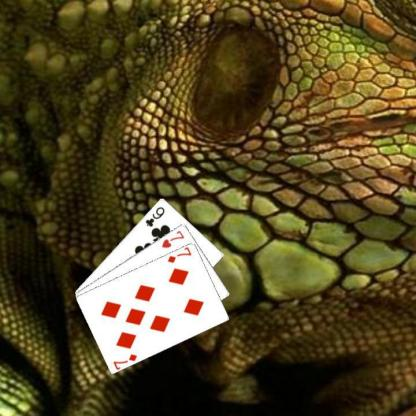7D: (165, 245, 192, 264), (111, 351, 138, 370)
7H: (159, 228, 185, 249)
9C: (143, 204, 166, 228)
